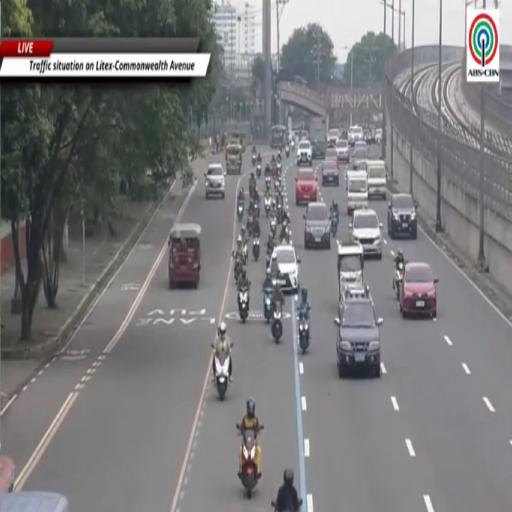bus: (270, 125, 287, 149)
car: (335, 287, 383, 377), (400, 262, 438, 317), (349, 210, 383, 259), (273, 245, 300, 293), (388, 194, 417, 238), (303, 202, 330, 248), (295, 168, 318, 205), (367, 160, 386, 199), (205, 164, 225, 198), (0, 456, 14, 494), (322, 159, 339, 186), (351, 143, 369, 166), (297, 140, 312, 166), (348, 125, 363, 146), (336, 139, 349, 163), (312, 137, 326, 159), (328, 128, 339, 147), (354, 140, 368, 151), (364, 128, 374, 143), (325, 148, 336, 159), (375, 128, 382, 145)
jeepney: (168, 223, 201, 289), (337, 242, 363, 301), (0, 491, 68, 511), (225, 142, 242, 174), (231, 132, 245, 153)
motorcycle: (237, 425, 260, 499), (214, 355, 230, 401), (298, 312, 309, 355), (271, 308, 282, 343), (393, 263, 403, 299), (238, 287, 248, 323), (264, 290, 272, 324), (246, 210, 255, 234), (252, 235, 260, 261), (280, 224, 290, 244), (234, 258, 242, 282), (237, 201, 244, 221), (242, 242, 248, 265), (331, 217, 338, 236), (276, 201, 282, 223), (270, 217, 276, 238), (265, 196, 271, 217), (254, 201, 260, 218), (249, 184, 255, 200), (256, 163, 261, 178), (265, 176, 270, 190), (275, 178, 281, 189), (266, 252, 270, 268), (285, 146, 290, 157), (277, 162, 281, 175), (252, 153, 256, 166), (271, 501, 276, 509), (291, 140, 294, 150)
truck: (309, 117, 327, 160)
